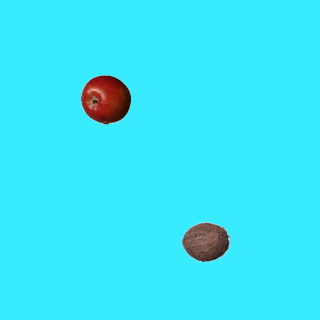Apple Braeburn: (80, 74, 130, 124)
Cocos: (180, 216, 230, 266)
